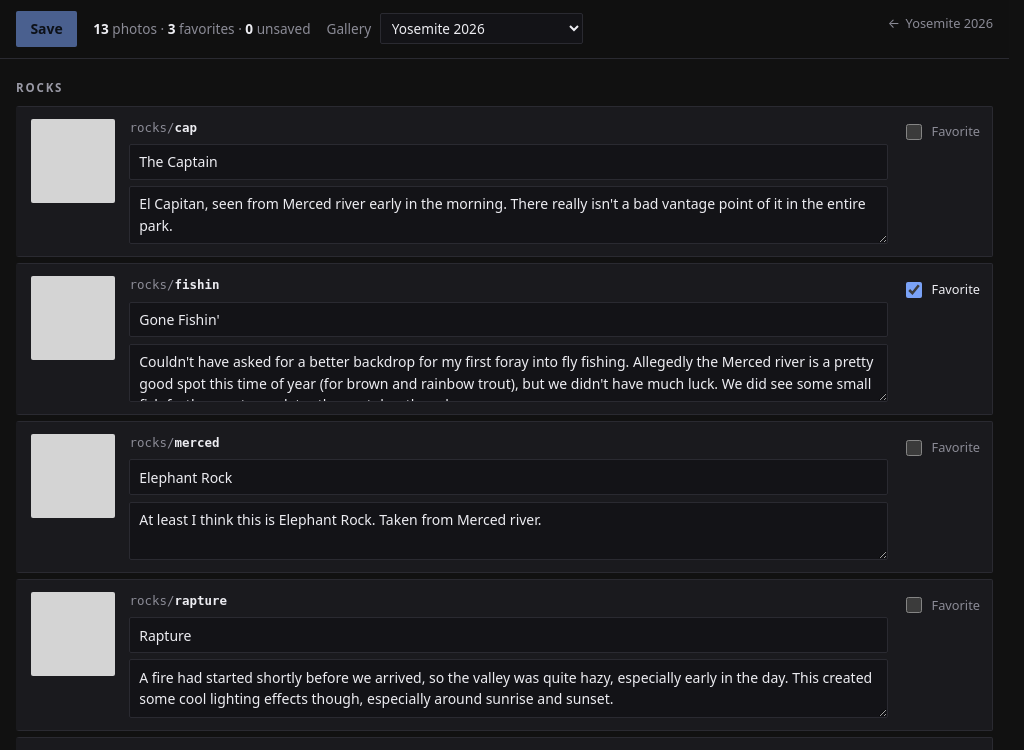
editing and saving › marks a changed row and enables Save
Replace the text in the field with class "f-title" below "fishin" with "A new title" at x=509, y=319, box [129,302,888,337]
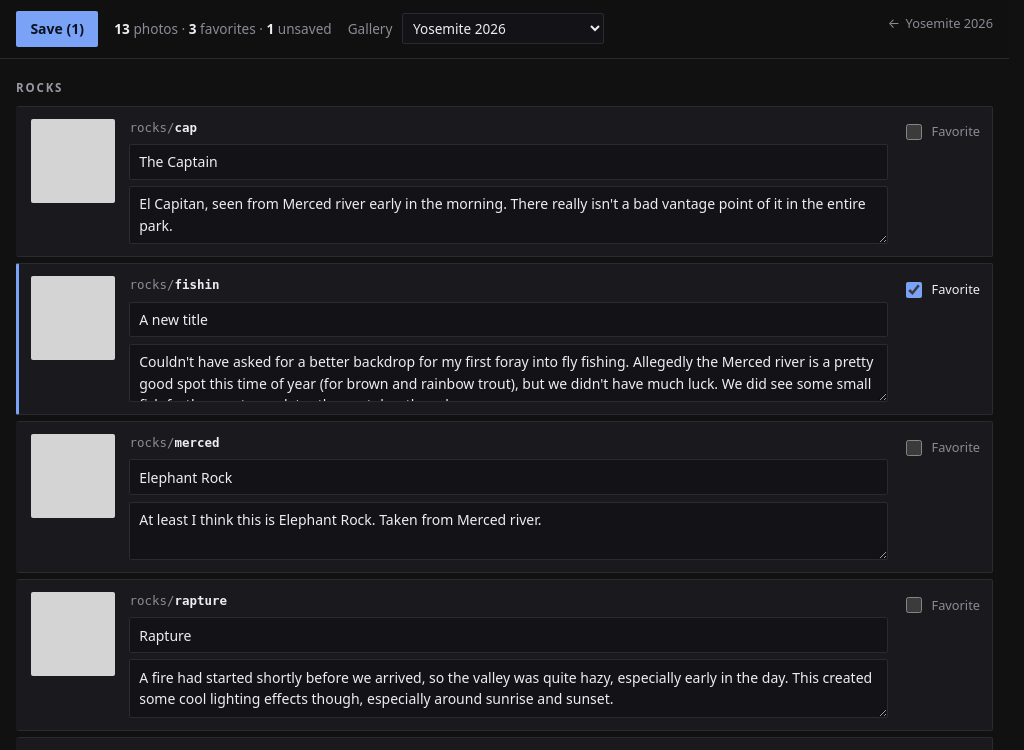
Now the button "Save (1)" is enabled, box [16,11,98,47]
Now the button "Save (1)" is shown, box [16,11,98,47]
